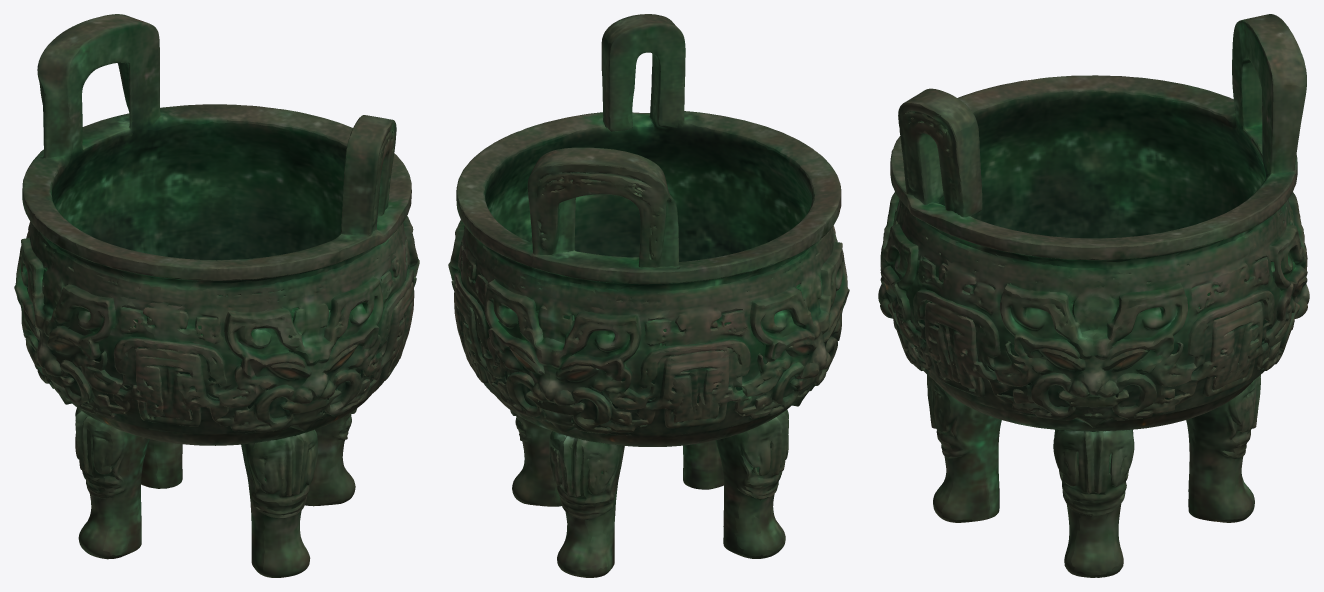
File: censer.glb
3 renders of one model, left to right at view 1: azimuth 30°, elevation 25°; view 2: azimuth 150°, elevation 25°; view 3: azimuth 270°, elevation 25°, orthographic. The views are drawn at different scales.
Parts seen in each view (by area): view 1: world; view 2: world; view 3: world.
Boxes of the visible parts, bbox=[...] form: world: bbox=[14, 14, 419, 577]; world: bbox=[448, 14, 849, 577]; world: bbox=[878, 14, 1309, 577].
Size of the model in its own units: 0.295 by 0.35 by 0.2951.
Materials: 1 (1 with a texture image).
